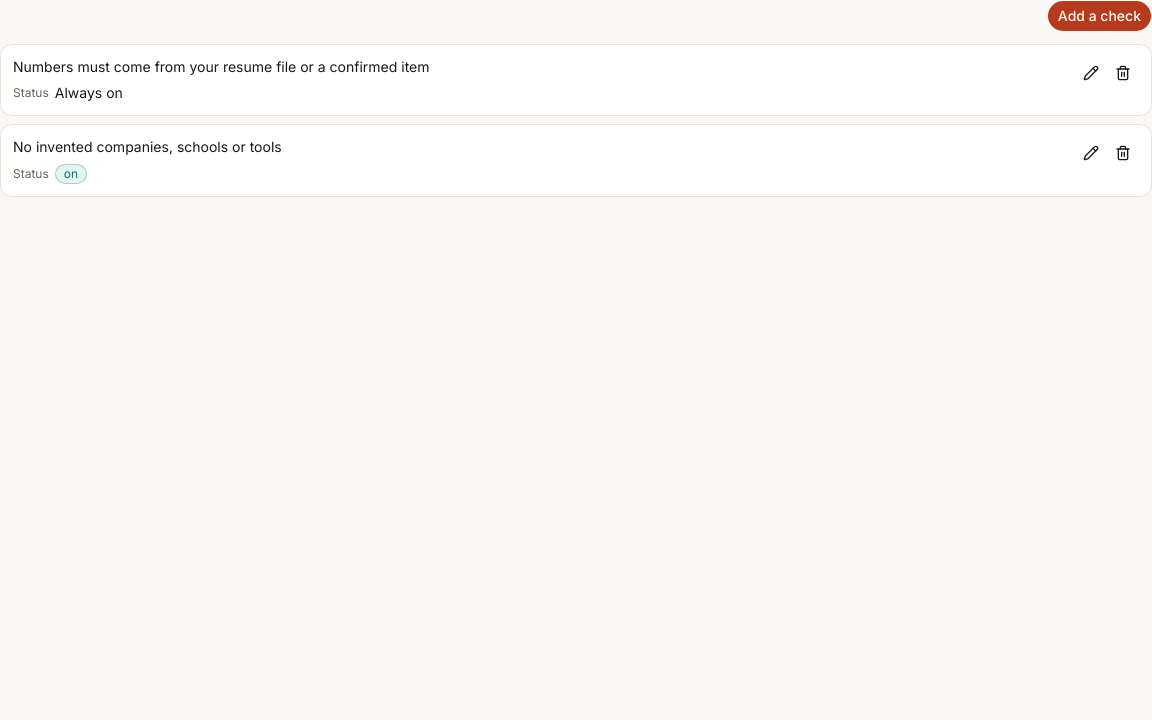
Test: GuardrailsTab › opens the guardrail editor as a centred dialog, not a sheet, with Save reachable
Click the button named "edit no invented companies, schools or tools" at point(1091, 153), box top-left (1075, 137), bottom-right (1107, 169)
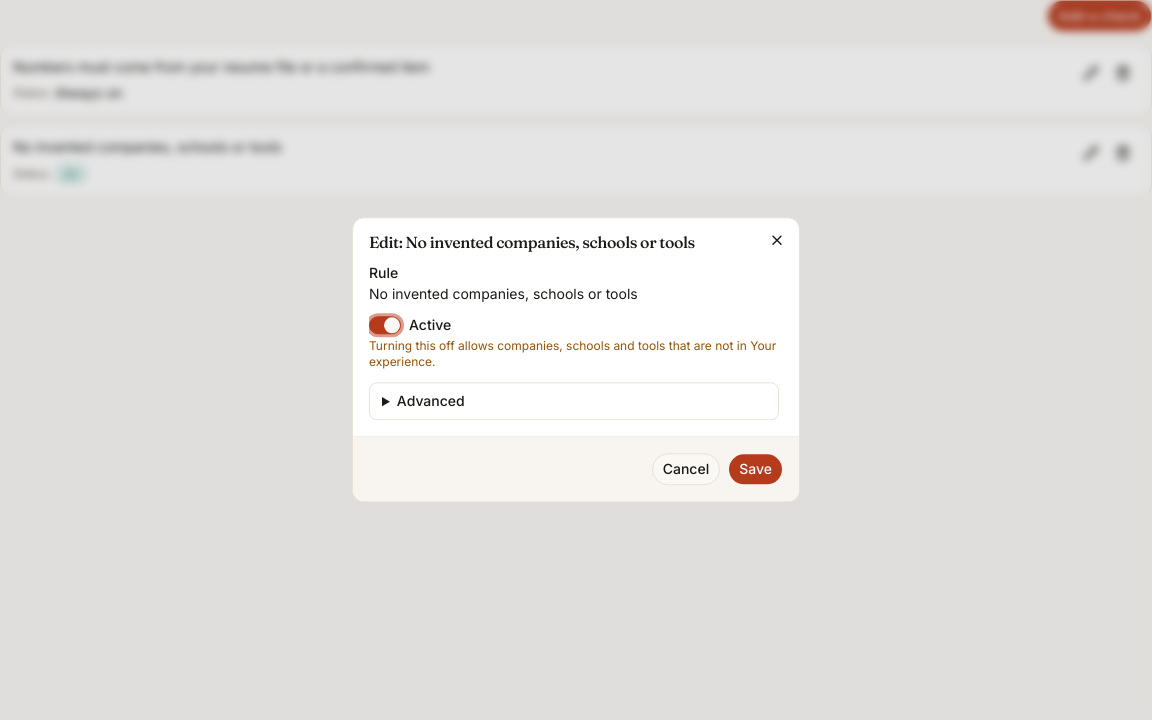
Expected: the dialog is shown, top-left (352, 217), bottom-right (800, 503)
Expected: the button "Save" is shown, top-left (728, 454), bottom-right (783, 486)
